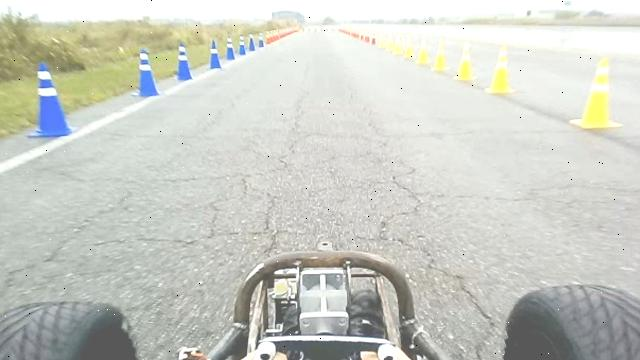blue cone: (27, 61, 73, 138), (131, 47, 160, 98), (175, 42, 193, 82), (209, 38, 222, 70), (225, 36, 236, 61), (238, 34, 246, 56), (248, 35, 256, 51), (258, 32, 264, 49)
yellow cone: (570, 57, 622, 130), (486, 45, 514, 94), (454, 42, 476, 81), (432, 37, 448, 72), (416, 37, 430, 64), (403, 36, 414, 58), (393, 34, 403, 55), (386, 32, 394, 52), (377, 31, 386, 48)
